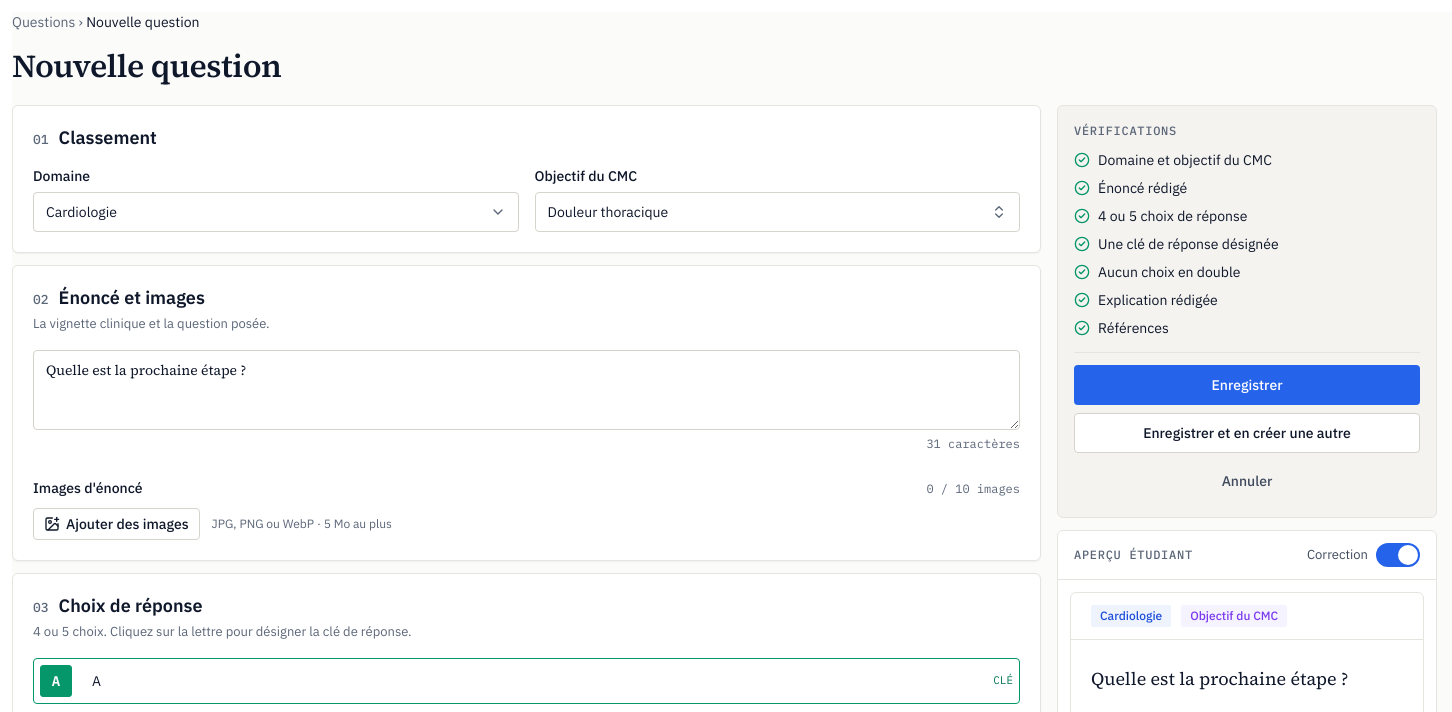
Test: QuestionForm — création › jumeau : un identifiant pris dès le premier envoi n'écrase rien
Step 1. Click the button with test id "btn-save-question" → (1247, 385), box [1074,365,1420,405]
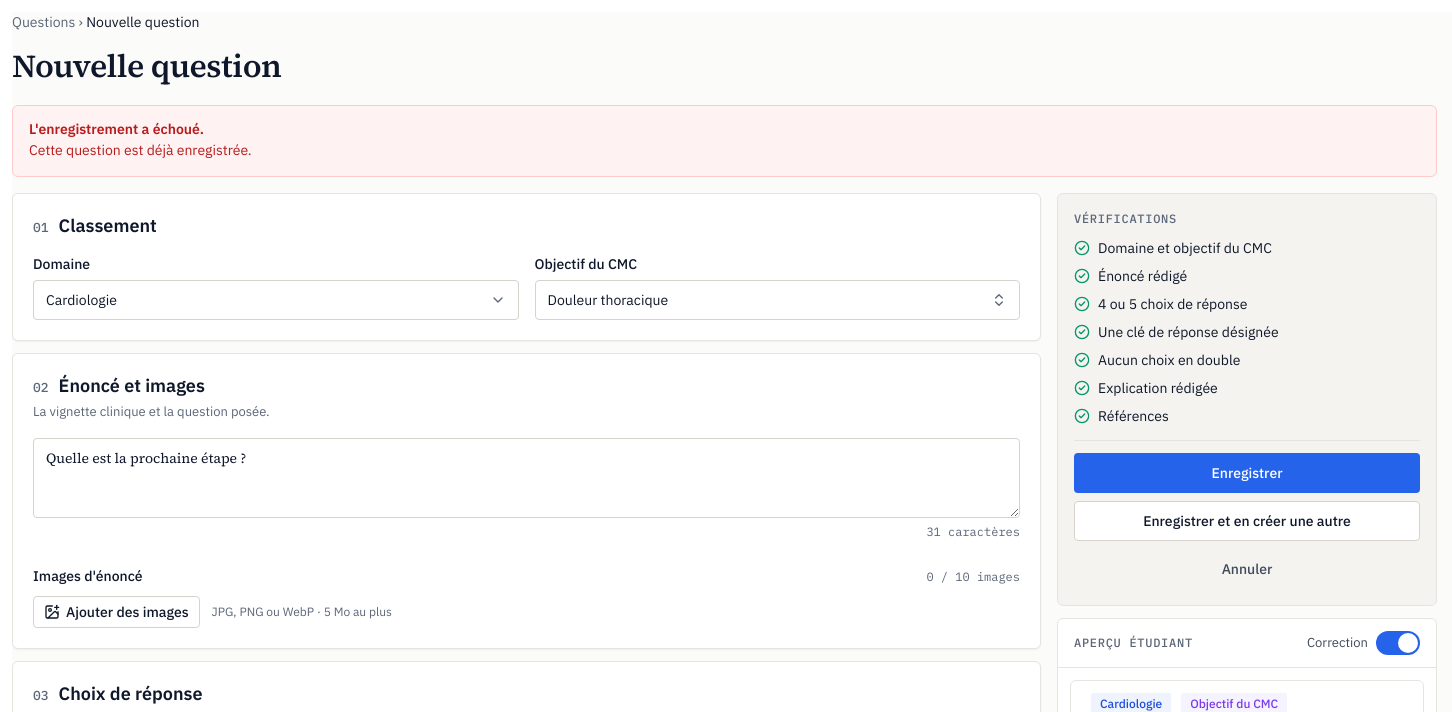
Expected: the message with test id "save-error" shows "déjà enregistrée", [29,141,252,159]
